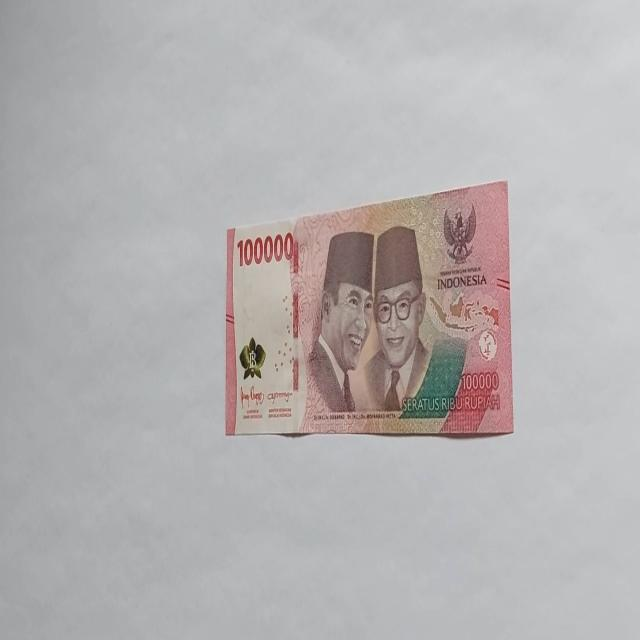seratus ribu rupiah: (224, 178, 514, 438), (300, 229, 374, 431)
